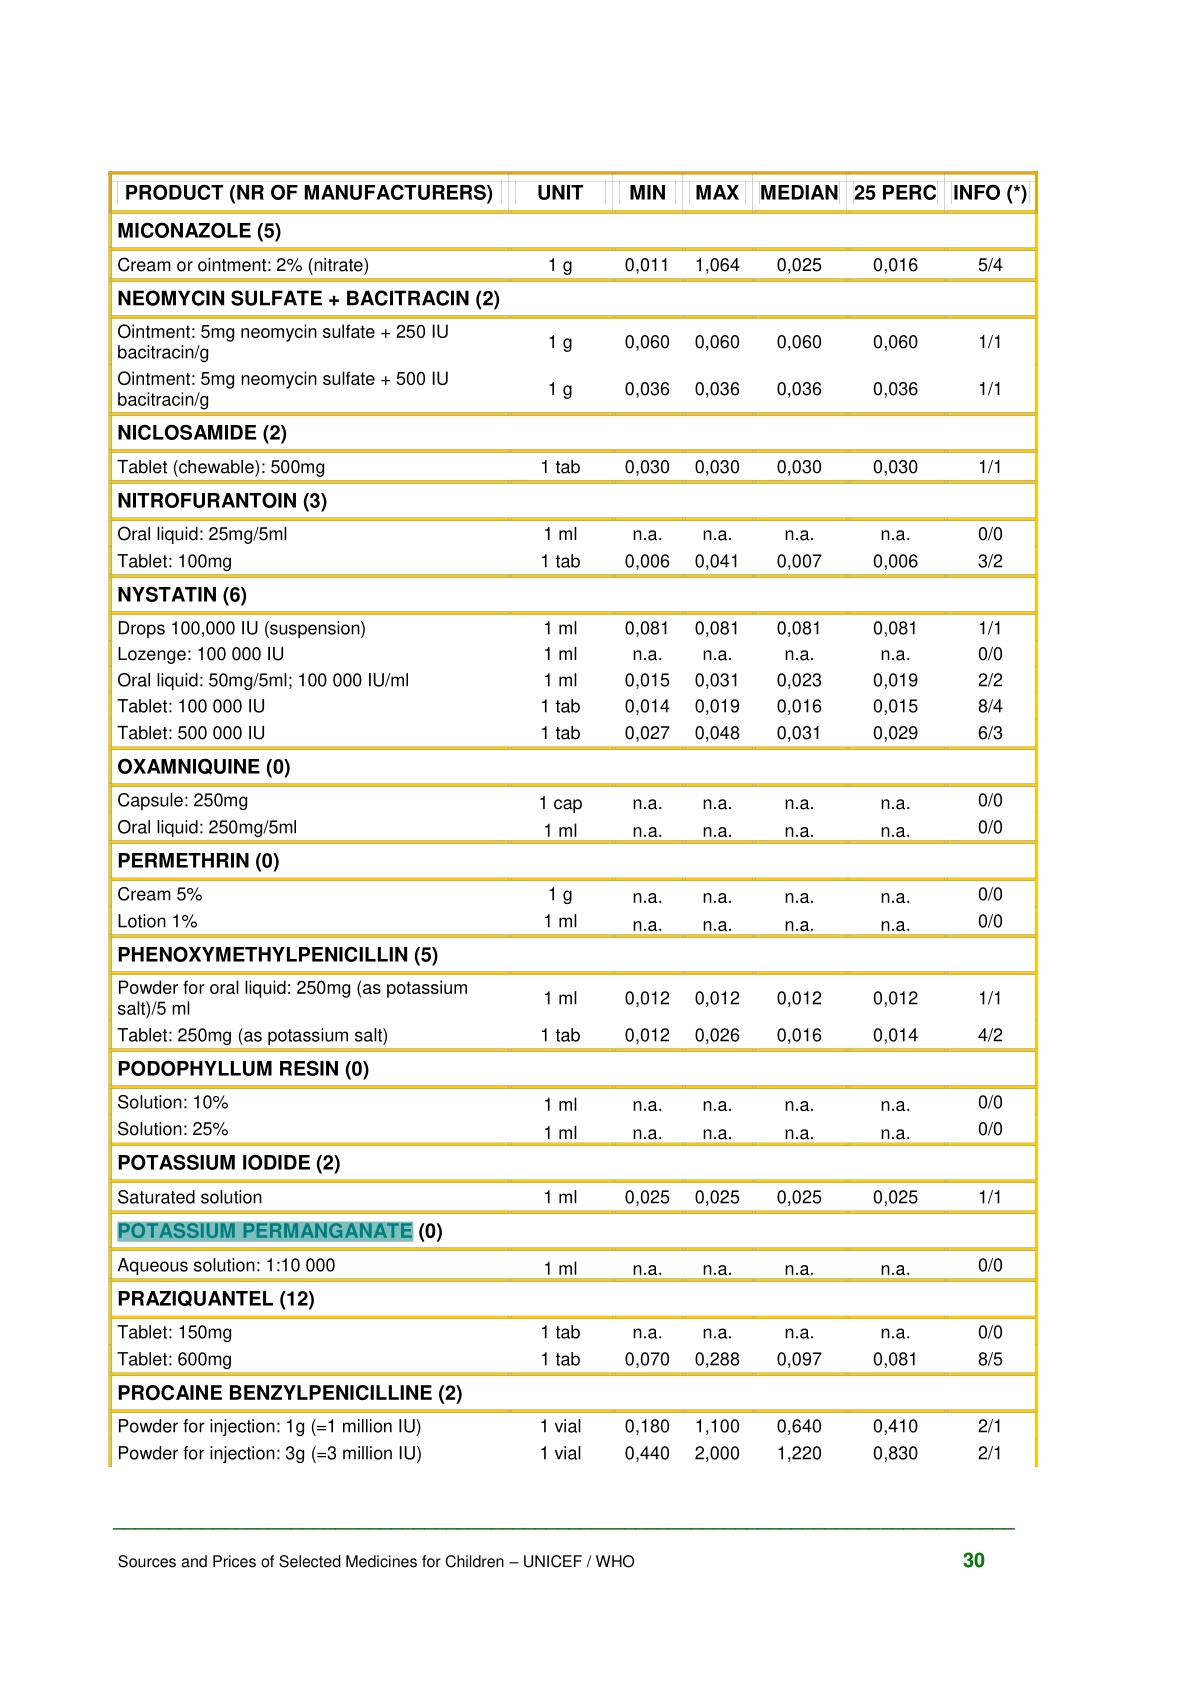partial_lined_merged_cells: (107, 169, 1040, 1468)
